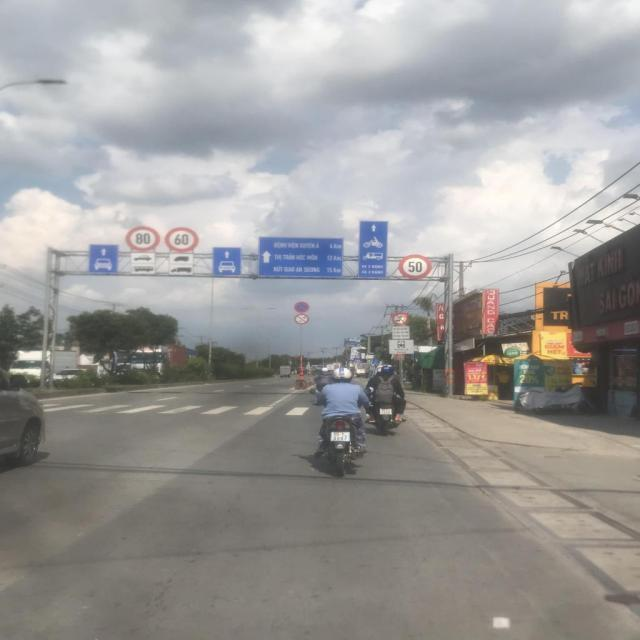107-cam-oto-khach-va-oto-tai: (391, 312, 409, 326)
127-toc-do-toi-da-50: (400, 255, 432, 281)
127-toc-do-toi-da-60: (165, 228, 199, 252)
127-toc-do-toi-da-80: (124, 225, 160, 253)
